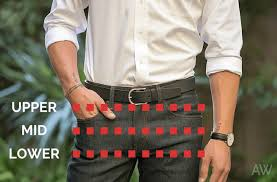F_belt: (82, 76, 202, 103)
